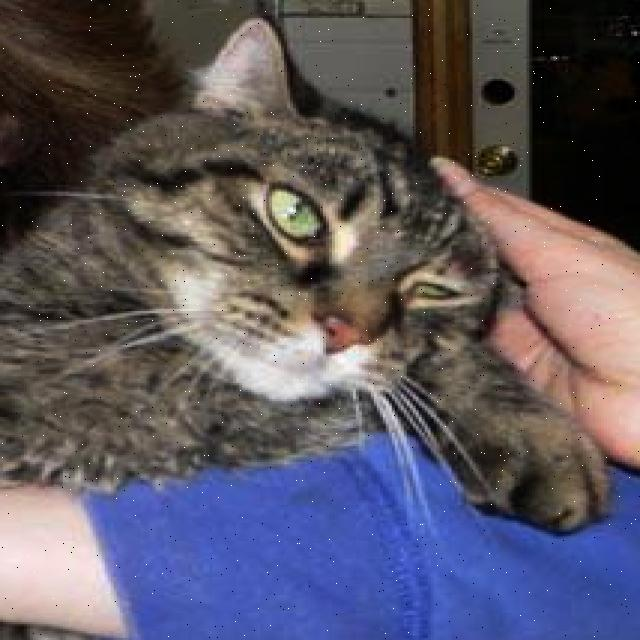Cat: (85, 50, 527, 423)
